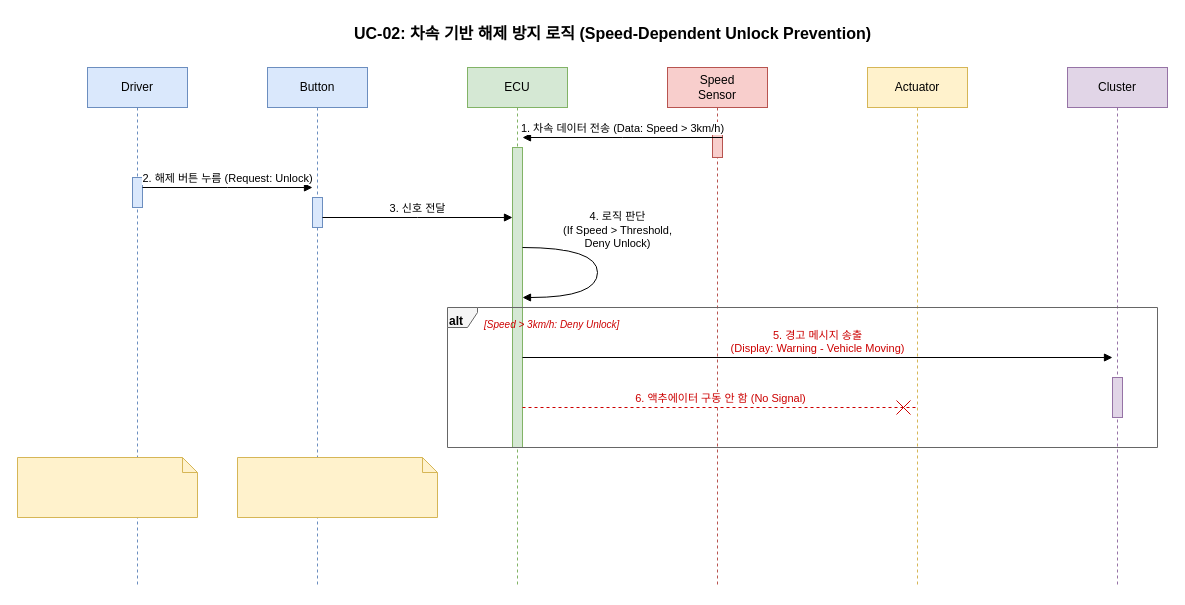
This 1185x605 diagram has some shape labels left out. The shapes that lost their labels are listed below. From the top down, each one's centre as x and y in pixels, then its label:
pixel 107 487: Pre-condition: 시스템 '잠금(Locked)' 상태, 차량 주행 중
pixel 337 487: Post-condition: 잠금 상태 유지, 클러스터에 '주행 중 해제 불가' 경고
